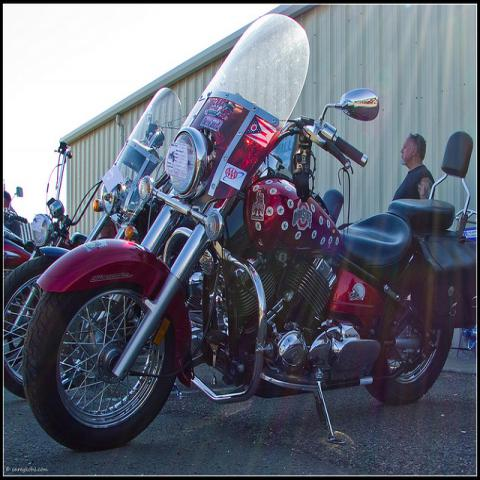motorcycle: (19, 9, 480, 454), (62, 85, 182, 240), (0, 141, 68, 380)
